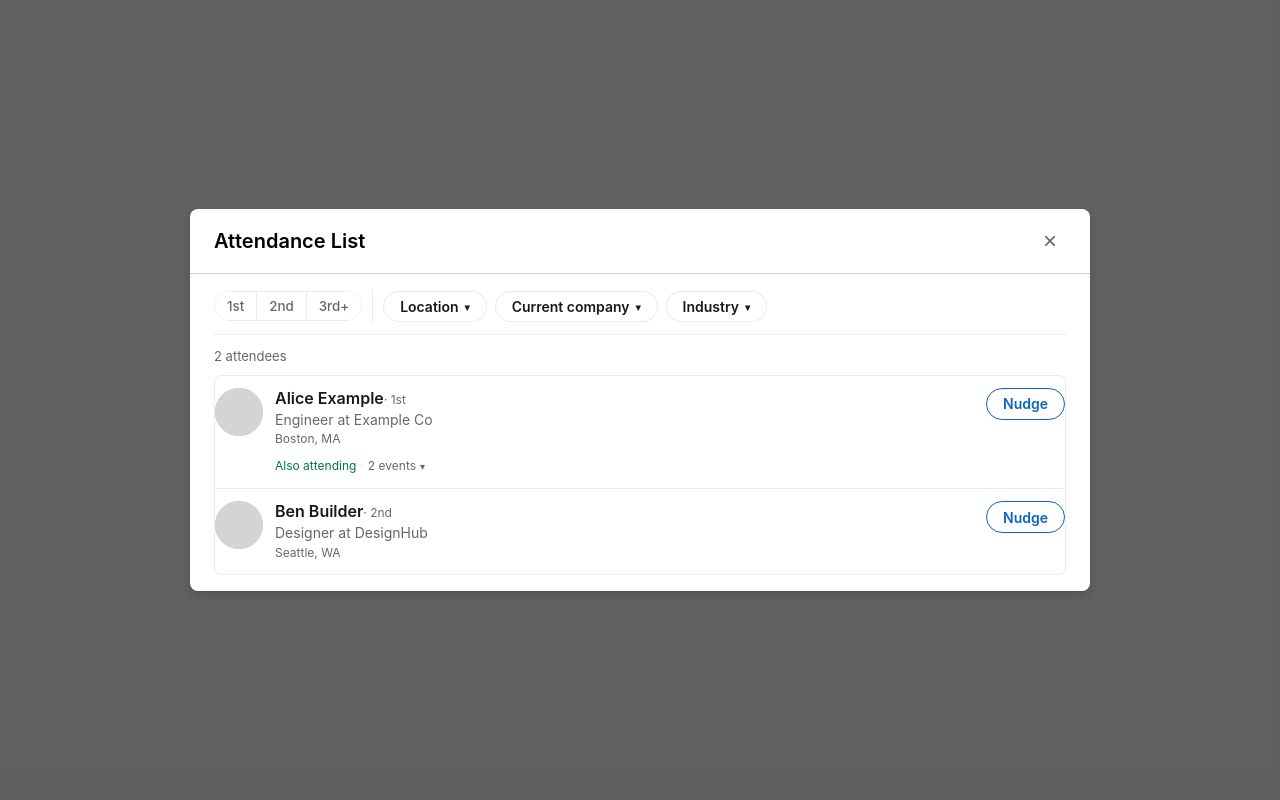
Test case: AttendeeModal › shows multiple also-attending events in an expandable dropdown
Expected: the link "Tech Mixer" is not shown
Expected: the link "Product Leaders Summit" is not shown
Click the button "Also attending 2 events ▾": (350, 466) [275,458,425,474]
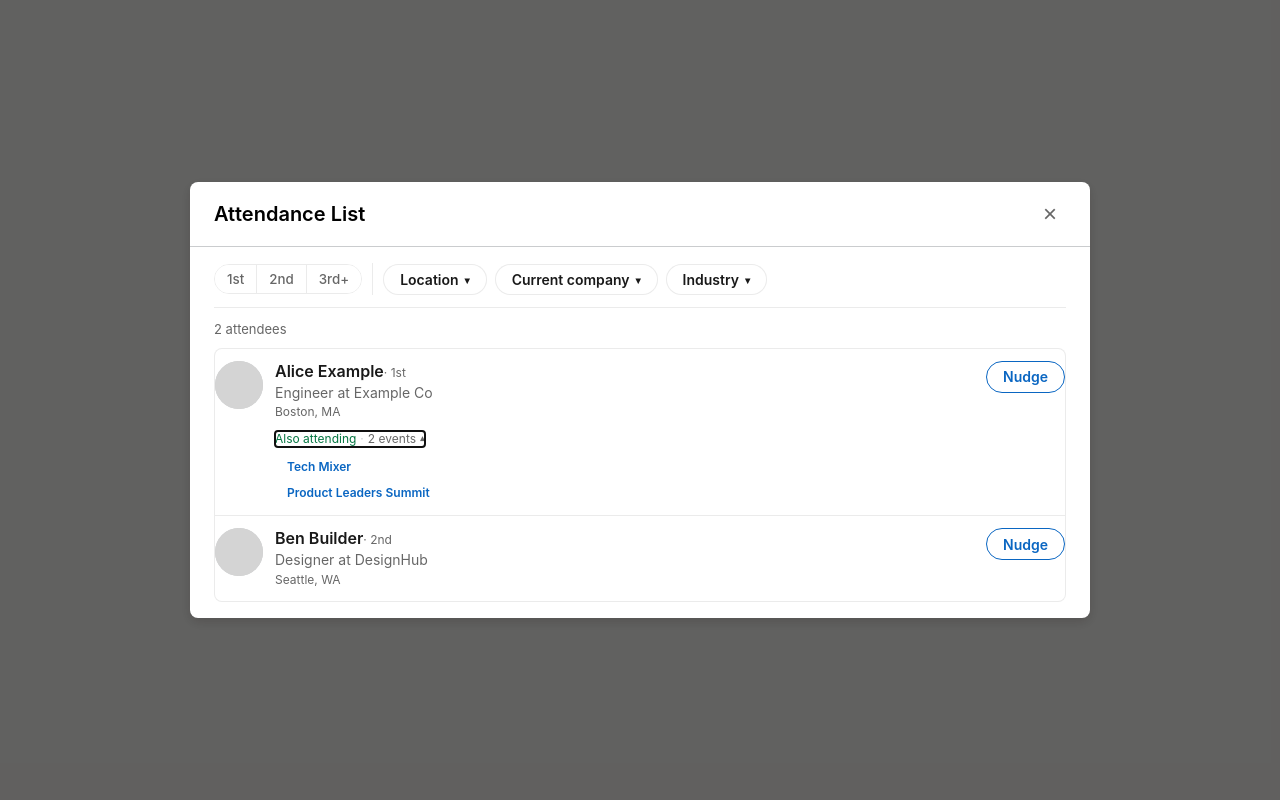
Expected: the link "Tech Mixer" is shown, [287,459,351,474]
Expected: the link "Product Leaders Summit" is shown, [287,485,430,500]
